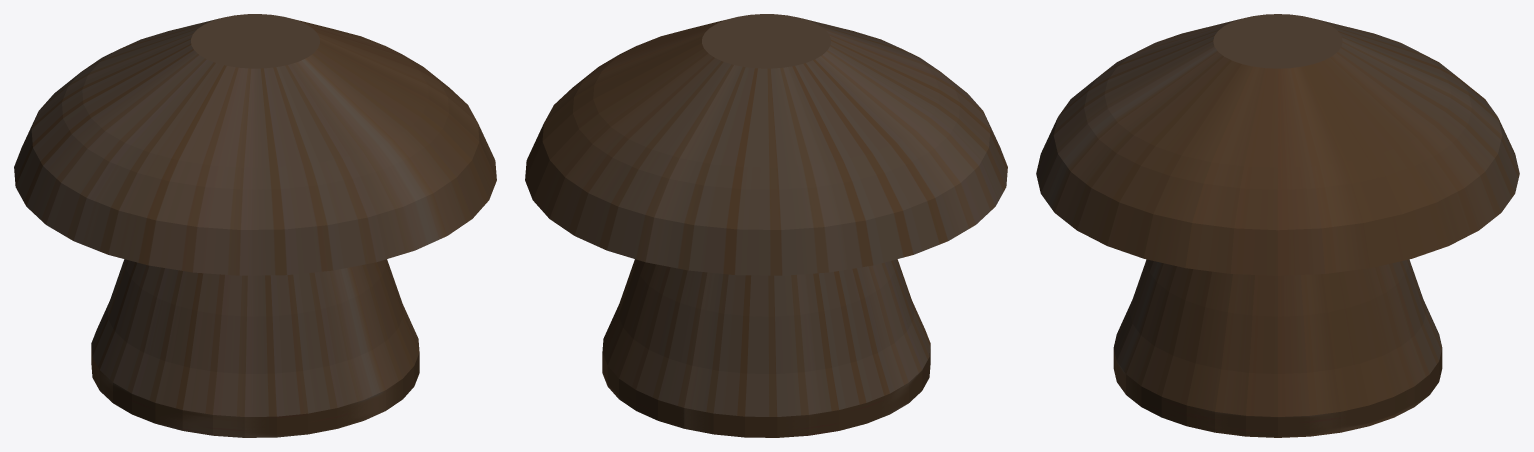
Rendered from cogumelo_normals.fbx.
3 views of the same model, side by side, from view 1: azimuth 30°, elevation 25°; view 2: azimuth 150°, elevation 25°; view 3: azimuth 270°, elevation 25° (orthographic).
Visible parts, largest first — view 1: Cylinder; view 2: Cylinder; view 3: Cylinder.
Boxes of the visible parts, box(x1,y1,x2,y2) form: Cylinder: box(14, 14, 496, 437); Cylinder: box(525, 14, 1007, 437); Cylinder: box(1036, 14, 1519, 437).
Size of the model in its own units: 89.5 by 66.79 by 89.5.
